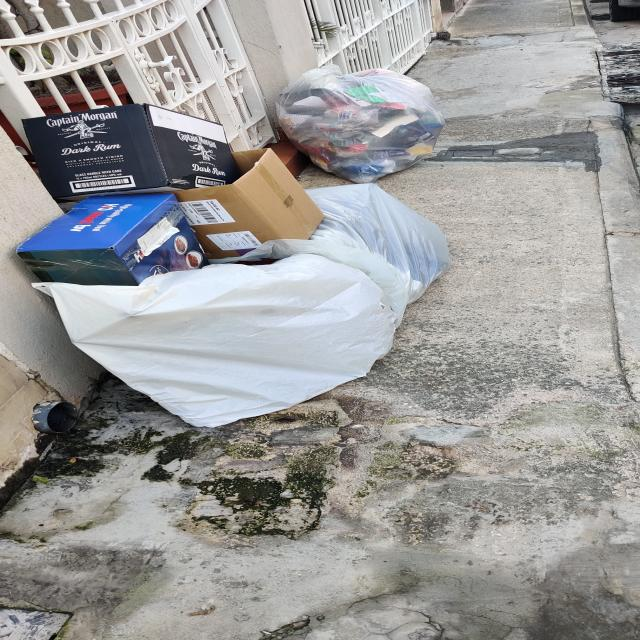Others Waste: (16, 98, 325, 289)
Recyclable Material -Grey Bags-: (42, 185, 449, 428), (272, 66, 444, 180)
